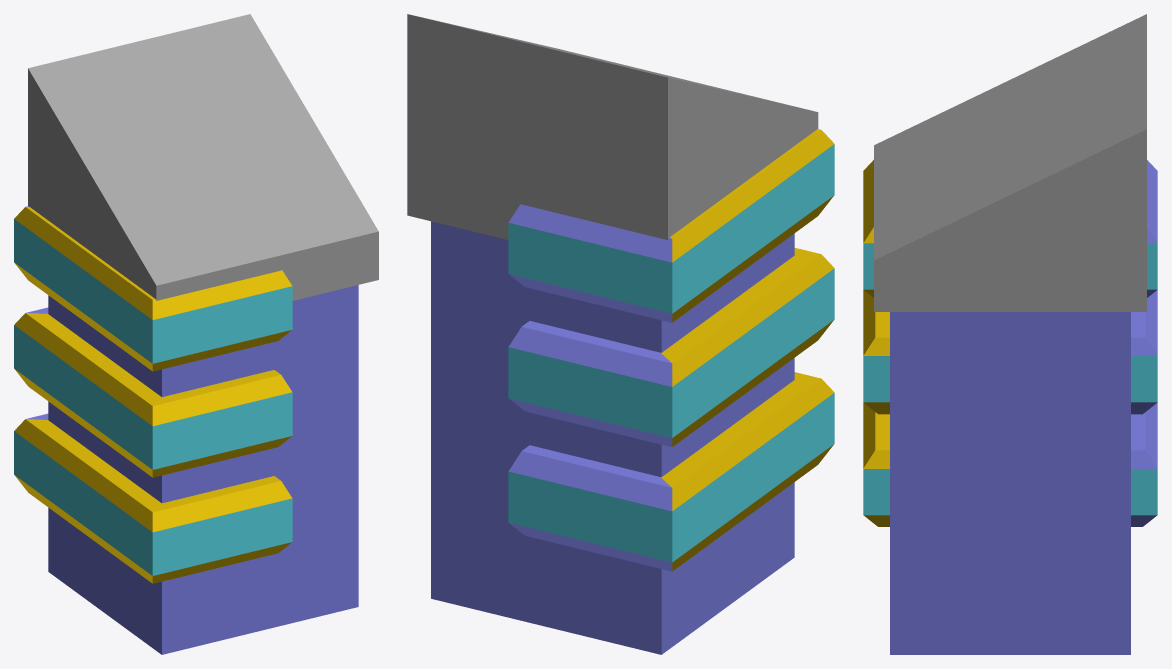
File: SM_Building_004.fbx
3 views of the same model, side by side, from view 1: azimuth 30°, elevation 25°; view 2: azimuth 150°, elevation 25°; view 3: azimuth 270°, elevation 25° (orthographic). The views are drawn at different scales.
Parts seen in each view (by area): view 1: SM_Building_004.001; view 2: SM_Building_004.001; view 3: SM_Building_004.001.
Boxes of the visible parts, x1,y1,x2,y2 form: SM_Building_004.001: [14, 14, 378, 654]; SM_Building_004.001: [407, 14, 834, 654]; SM_Building_004.001: [863, 14, 1157, 654].
Size of the model in its own units: 4.7 by 9.74 by 4.88.
